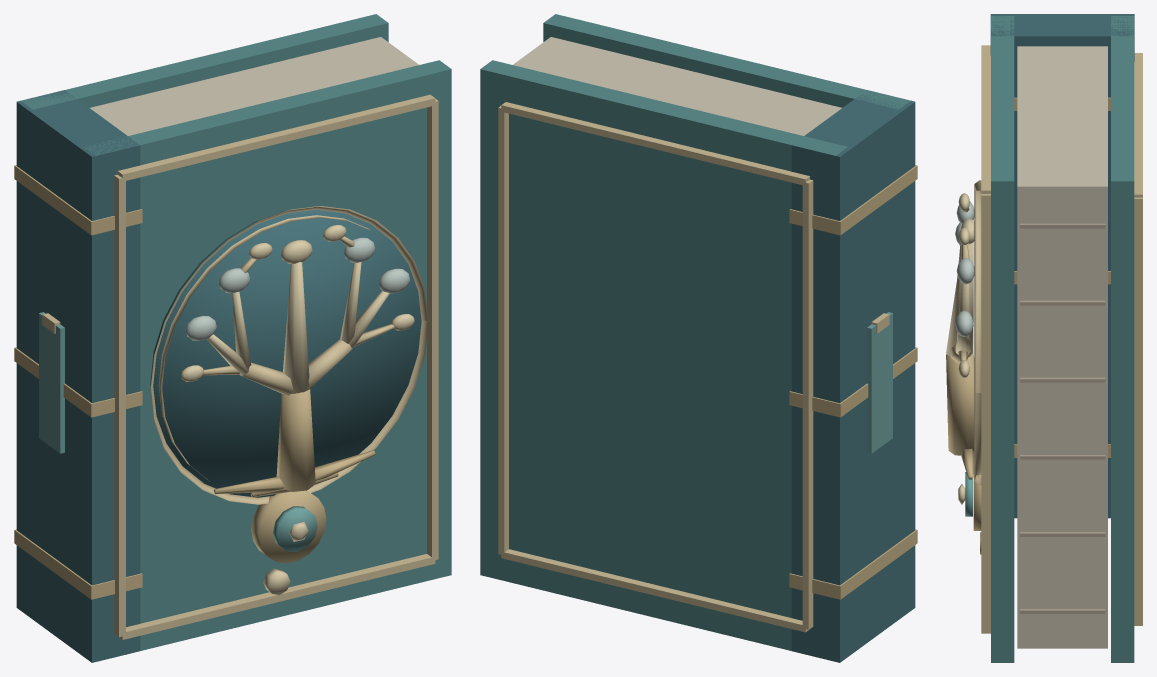
File: ART-38.glb
3 views of the same model, side by side, from view 1: azimuth 30°, elevation 25°; view 2: azimuth 150°, elevation 25°; view 3: azimuth 270°, elevation 25° (orthographic). The views are drawn at different scales.
Visible parts, largest first — view 1: world; view 2: world; view 3: world.
Boxes of the visible parts, x1=… form: world: x1=14, y1=14, x2=451, y2=662; world: x1=480, y1=14, x2=917, y2=662; world: x1=946, y1=14, x2=1142, y2=662.
Bounding box in the file's own units: 1.51 × 2 × 0.7409.
